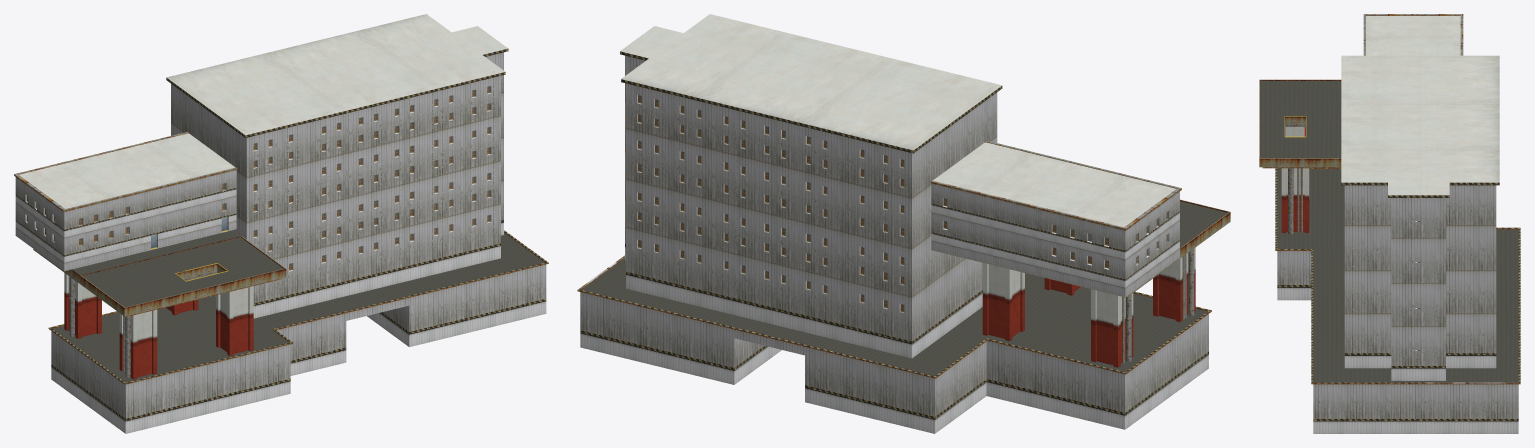
Rendered from building_4_lod1.DAE.
The picture shows the model from 3 angles, left to right: view 1: azimuth 30°, elevation 25°; view 2: azimuth 150°, elevation 25°; view 3: azimuth 270°, elevation 25°; orthographic projection. The views are drawn at different scales.
Parts seen in each view (by area): view 1: Mesh_Object; view 2: Mesh_Object; view 3: Mesh_Object.
Part boxes in pixels (<box>): Mesh_Object: <box>14,14,548,433</box>; Mesh_Object: <box>577,14,1230,433</box>; Mesh_Object: <box>1259,14,1520,433</box>.
Size of the model in its own units: 113 by 55.92 by 55.63.
